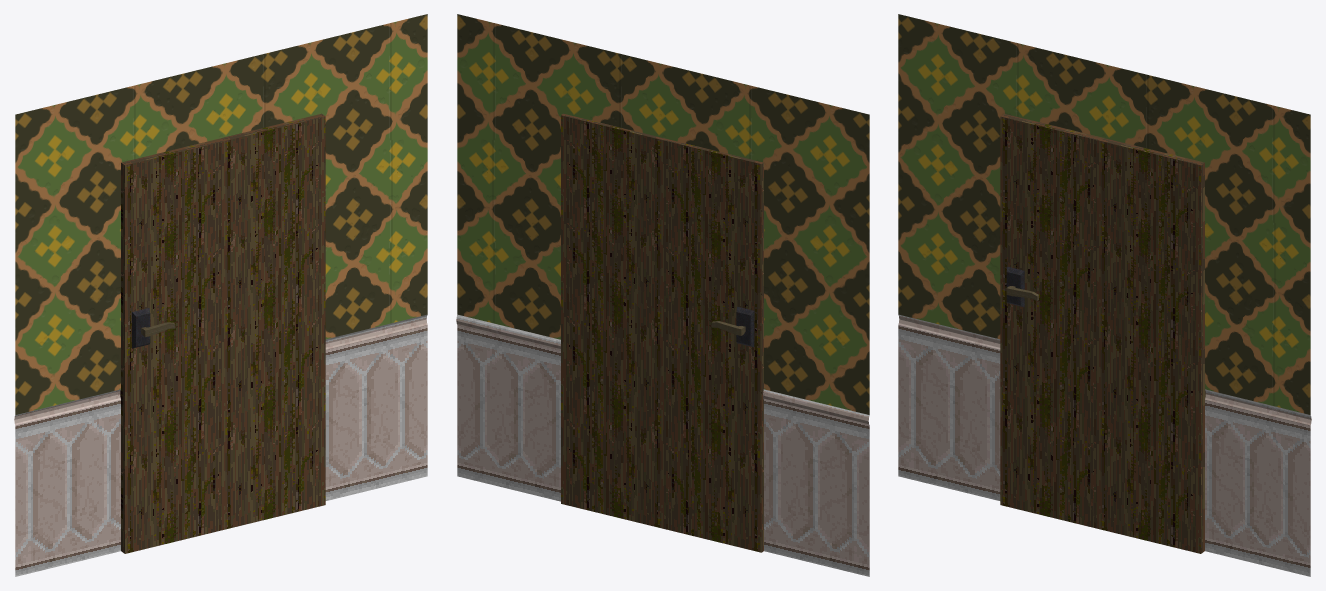
File: MuroPasilloPuerta.fbx
3 views of the same model, side by side, from view 1: azimuth 30°, elevation 25°; view 2: azimuth 150°, elevation 25°; view 3: azimuth 330°, elevation 25° (orthographic).
Parts seen in each view (by area): view 1: ParedPasilloMarco, Puerta; view 2: ParedPasilloMarco, Puerta; view 3: ParedPasilloMarco, Puerta.
Boxes of the visible parts, x1,y1,x2,y2 form: ParedPasilloMarco: [14, 14, 427, 576]; Puerta: [120, 113, 325, 553]; ParedPasilloMarco: [456, 14, 869, 576]; Puerta: [561, 113, 763, 552]; ParedPasilloMarco: [898, 14, 1311, 576]; Puerta: [1000, 113, 1205, 553].
Size of the model in its own units: 280 by 300 by 23.51.
